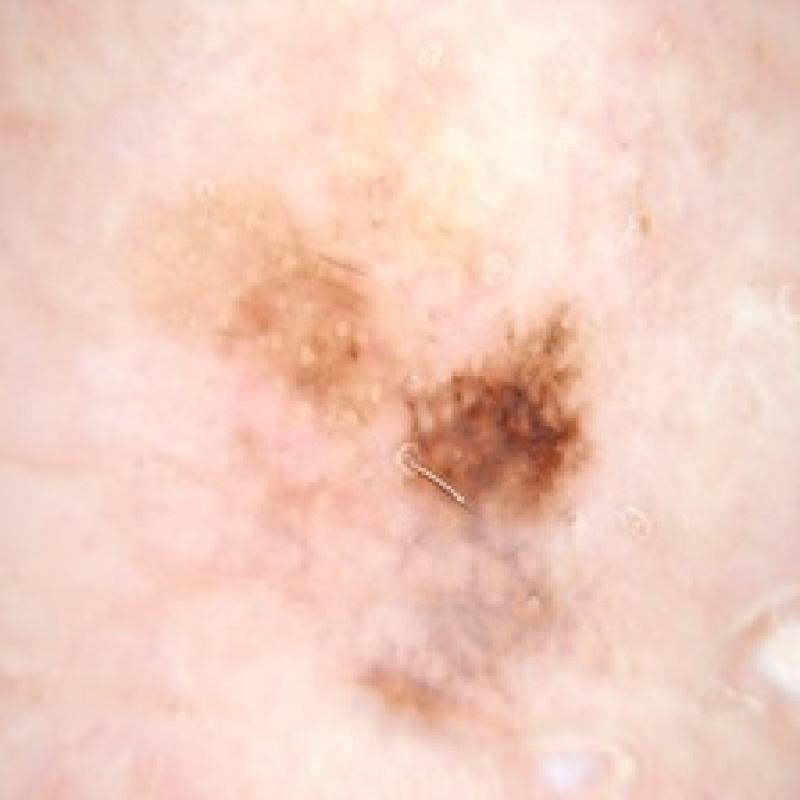malignant: (153, 146, 642, 560)
